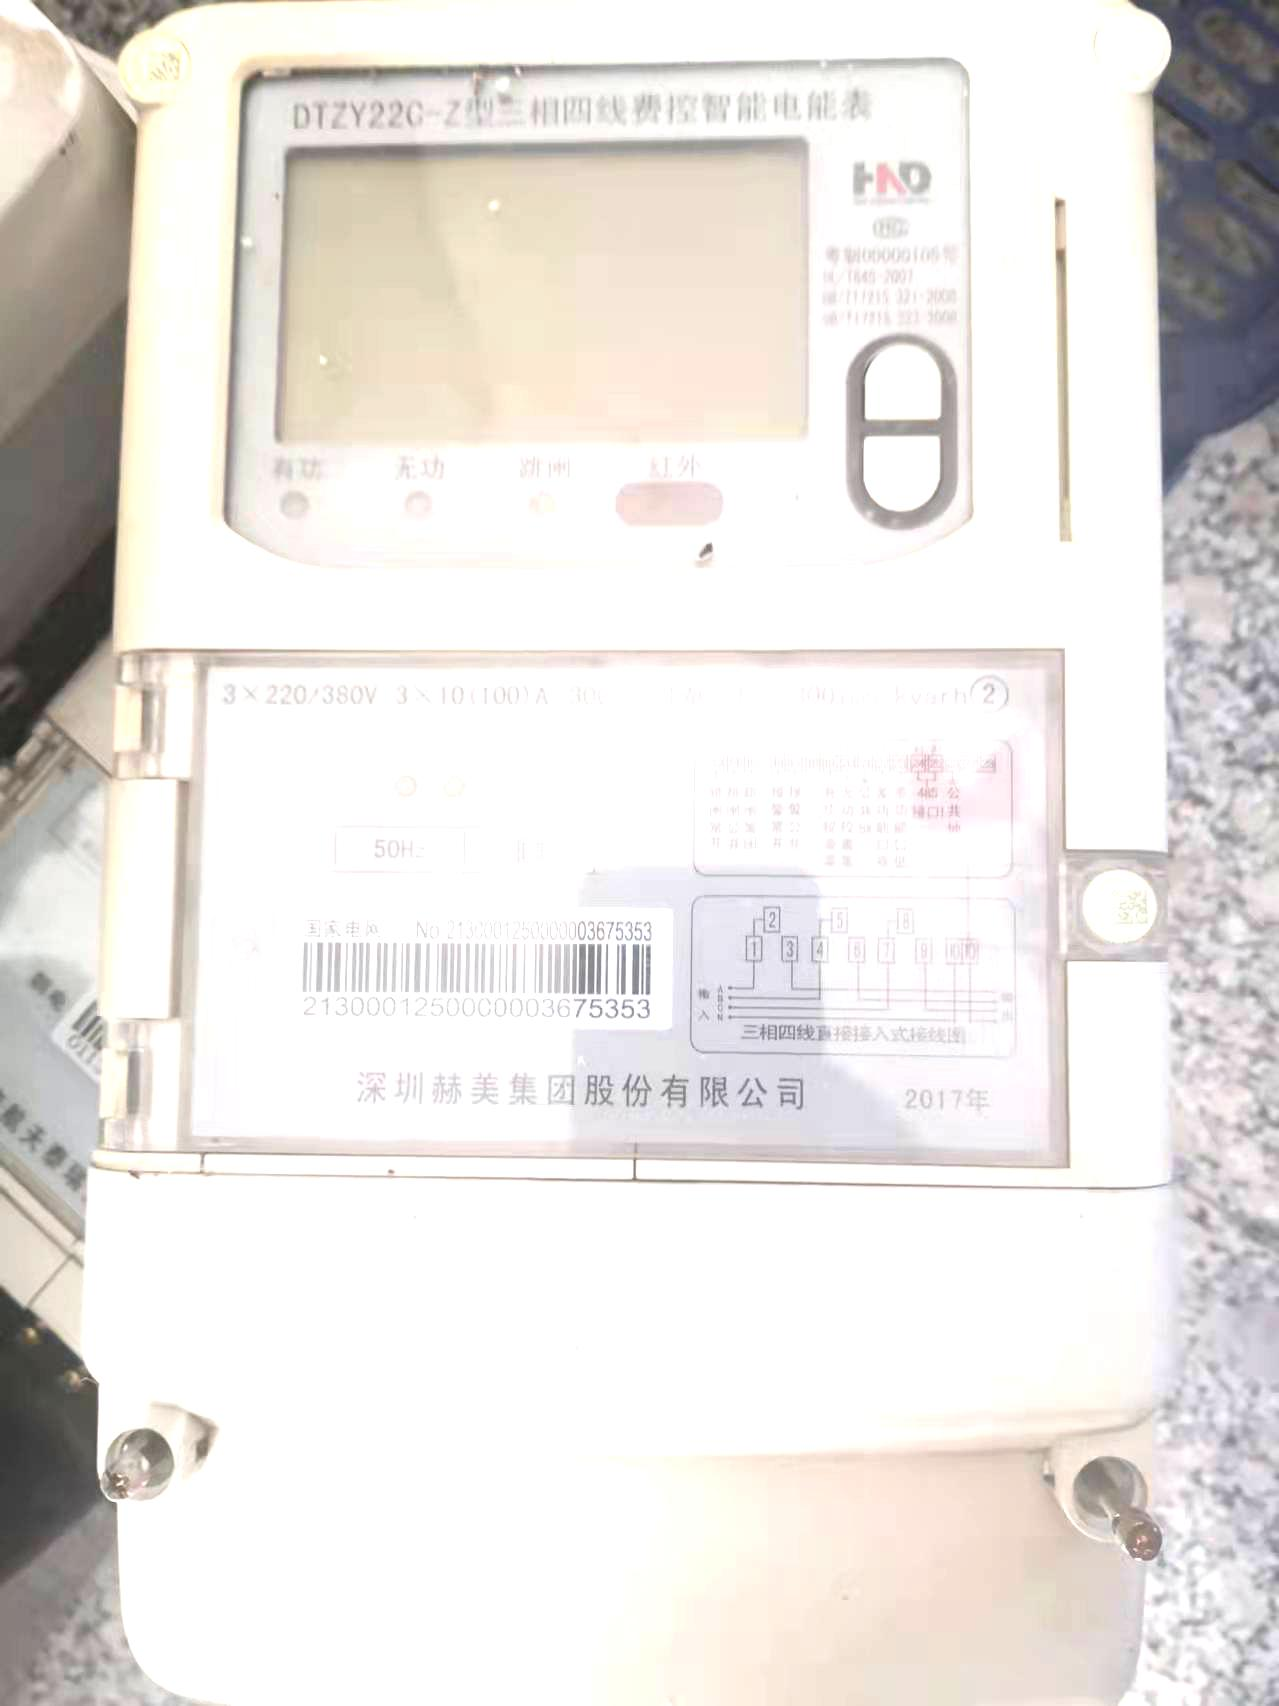digital: (90, 7, 1167, 1456)
